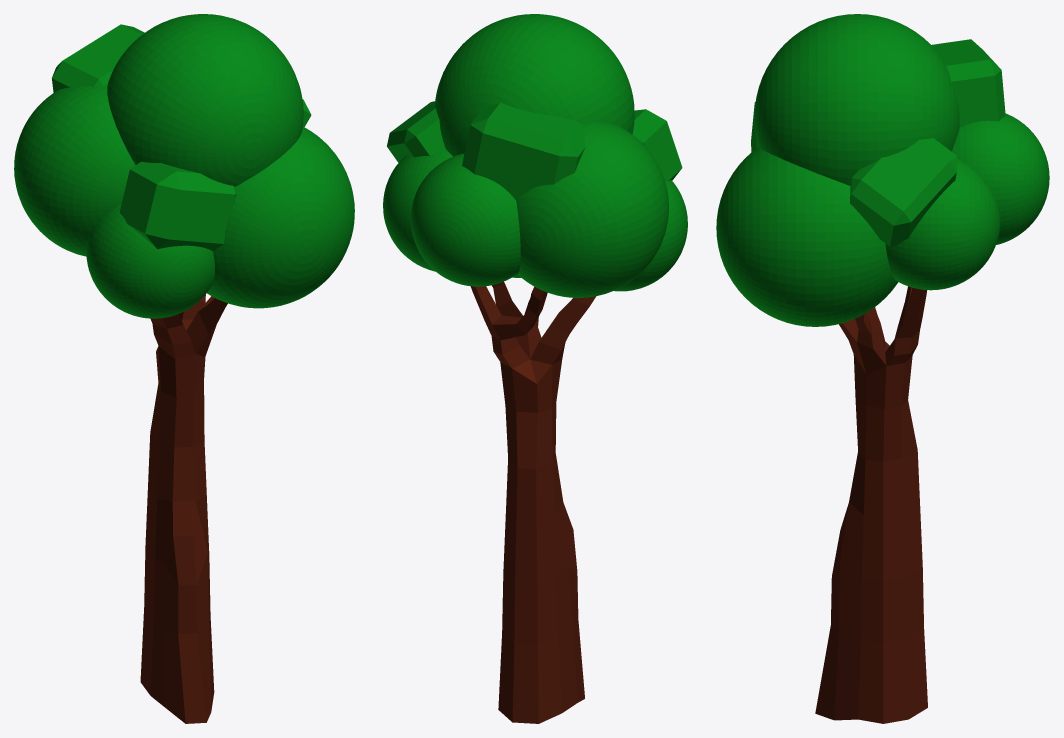
File: tree.fbx
3 views of the same model, side by side, from view 1: azimuth 30°, elevation 25°; view 2: azimuth 150°, elevation 25°; view 3: azimuth 270°, elevation 25° (orthographic). The views are drawn at different scales.
Visible parts, largest first — view 1: Cube.002; view 2: Cube.002; view 3: Cube.002.
Part boxes in pixels (x1,y1,x2,y2): Cube.002: (14,14,354,723); Cube.002: (383,14,687,723); Cube.002: (716,14,1049,723).
Size of the model in its own units: 809 by 1908 by 825.
